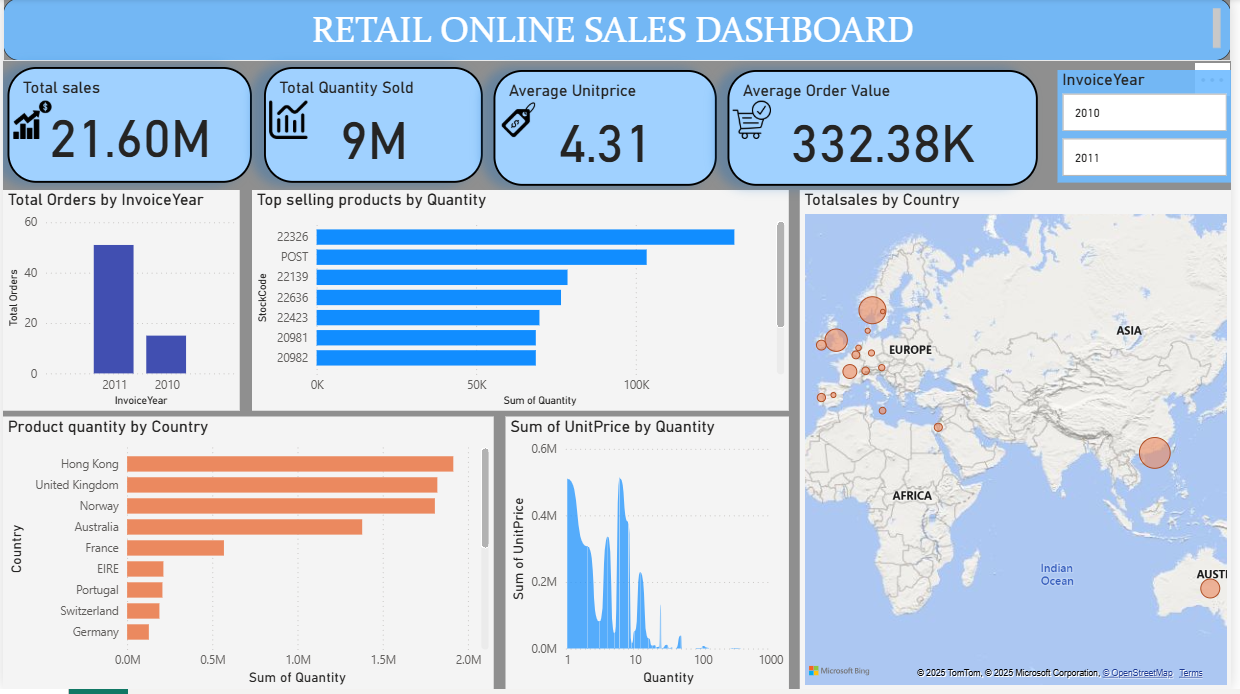

The page's visual inventory and layout, read from the dashboard file:
{"tool":"powerbi","page":{"name":"Page 1","canvas":[1280,720],"ordinal":0},"visuals":[{"type":"textbox","box":[0,0,1280.1,65.6],"z":0},{"type":"card","title":"Total sales","fields":{"Values":["Sum(retail sales total_sales.totalsales)"]},"box":[5,71.9,254.8,120.4],"z":1000},{"type":"card","title":"Total Quantity Sold","fields":{"Values":["Sum(retail sales total_sales.Quantity)"]},"box":[272,71.9,228.2,120.4],"z":2000},{"type":"card","title":"Average Unitprice","fields":{"Values":["Avg(retail sales total_sales.UnitPrice)"]},"box":[511.1,75,232.9,120.4],"z":3000},{"type":"barChart","title":"Top selling products by Quantity","fields":{"Category":["retail sales total_sales.StockCode"],"Y":["Sum(retail sales total_sales.Quantity)"]},"box":[259.5,200.1,559.5,229.8],"z":4000},{"type":"barChart","title":"Product quantity by Country","fields":{"Category":["retail sales total_sales.Country"],"Y":["Sum(retail sales total_sales.Quantity)"]},"box":[0,436.1,511.1,284.5],"z":5000},{"type":"map","title":"Totalsales by Country","fields":{"Category":["retail sales total_sales.Country"],"Size":["Sum(retail sales total_sales.totalsales)"]},"box":[829.9,200.1,450.1,520.5],"z":6000},{"type":"card","title":"Average Order Value","fields":{"Values":["retail sales total_sales.Average Order Value (AOV)"]},"box":[754.9,75,323.5,120.4],"z":7000},{"type":"columnChart","fields":{"Category":["retail sales retail sales.InvoiceYear"],"Y":["retail sales total_sales.Total Orders"]},"box":[0,200.1,247,229.8],"z":8000},{"type":"image","box":[272,101.6,50,50],"z":9000},{"type":"image","box":[4.7,101.6,51.6,50],"z":10000},{"type":"image","box":[754.9,101.6,50,50],"z":11000},{"type":"image","box":[511.1,101.6,51.6,50],"z":12000},{"type":"advancedSlicerVisual","fields":{"Values":["retail sales retail sales.InvoiceYear"]},"box":[1098.8,75,181.3,117.2],"z":13000},{"type":"ribbonChart","fields":{"Category":["retail sales total_sales.Quantity"],"Y":["Sum(retail sales total_sales.UnitPrice)"]},"box":[523.6,436.1,295.4,284.5],"z":13001}]}

Visuals, with their boxes in screenshot pixels (x1, y1, x2, y2), scaled from the page's 1280x720 canvas onto the 1240x694 screenshot:
textbox: box(0, 0, 1239, 63)
"Total sales" card: box(5, 69, 252, 185)
"Total Quantity Sold" card: box(264, 69, 485, 185)
"Average Unitprice" card: box(495, 72, 721, 188)
"Top selling products by Quantity" barChart: box(251, 193, 793, 414)
"Product quantity by Country" barChart: box(0, 420, 495, 693)
"Totalsales by Country" map: box(804, 193, 1239, 693)
"Average Order Value" card: box(731, 72, 1045, 188)
columnChart - retail sales retail sales.InvoiceYear x retail sales total_sales.Total Orders: box(0, 193, 239, 414)
image: box(264, 98, 312, 146)
image: box(5, 98, 55, 146)
image: box(731, 98, 780, 146)
image: box(495, 98, 545, 146)
advancedSlicerVisual - retail sales retail sales.InvoiceYear: box(1064, 72, 1239, 185)
ribbonChart - retail sales total_sales.Quantity x Sum(retail sales total_sales.UnitPrice): box(507, 420, 793, 693)
